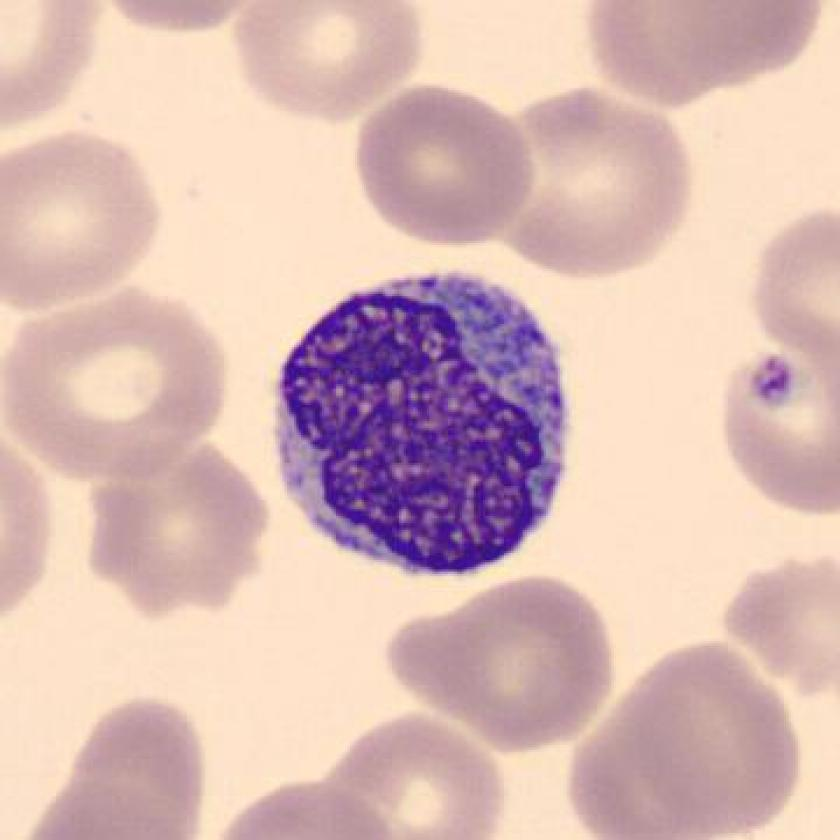monocyte: (263, 251, 592, 593)
